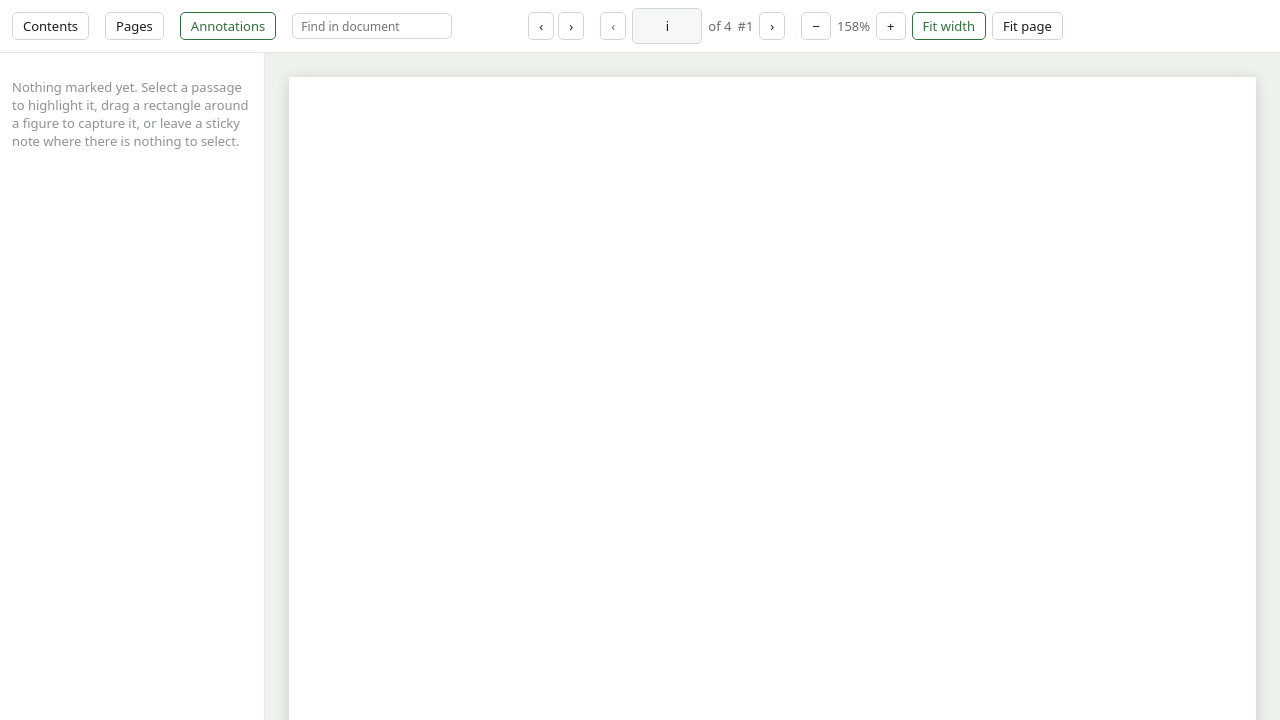
pdf reader › uses the label a document gives a page, not its index
The width and height of the screenshot is (1280, 720).
Expected: the text "of 4" is shown, [708,17,732,35]
Expected: the field named "Page" holds "i", [632,8,702,44]
Step 1. Click the button named "Next page" → (772, 26), box [759,12,785,40]
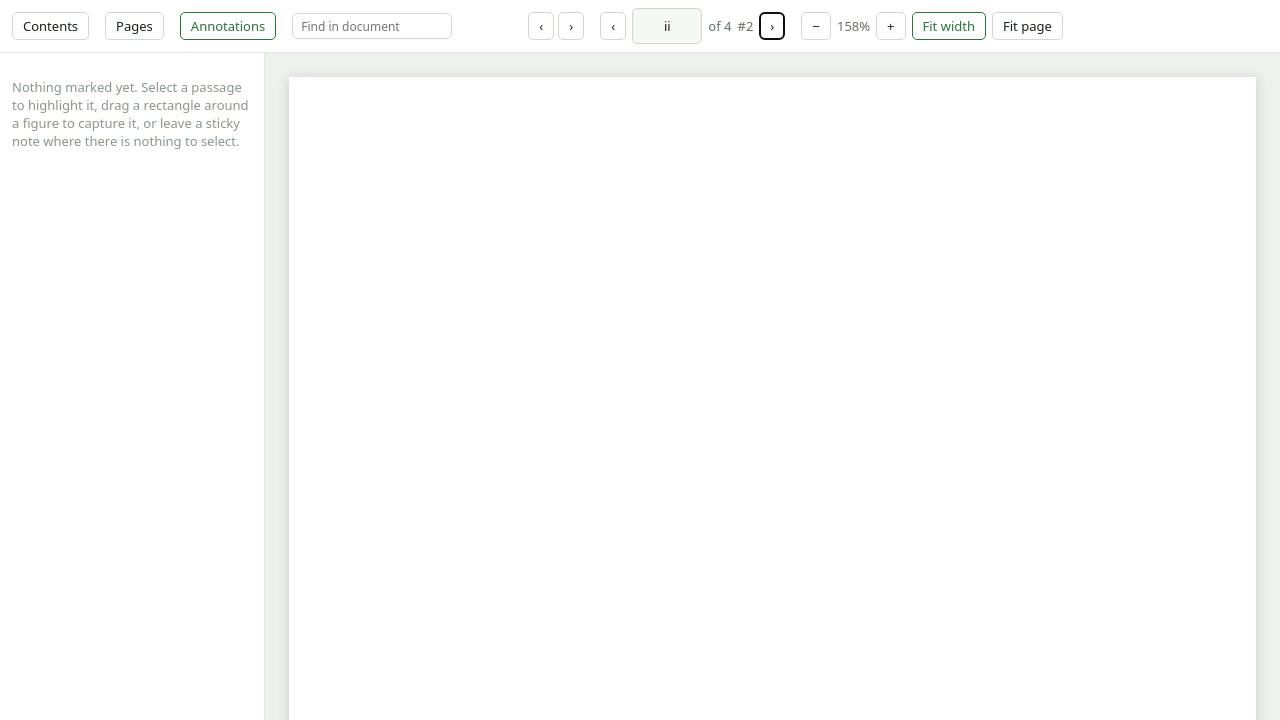
Now the field named "Page" holds "ii", box [632,8,702,44]
